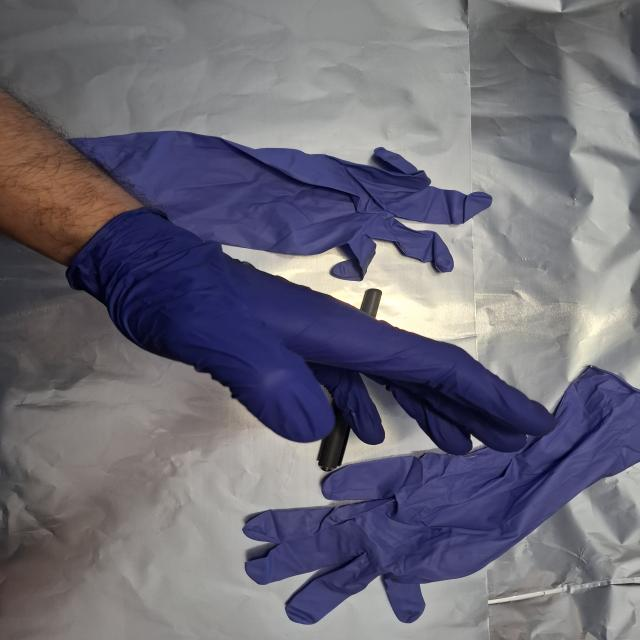glove_on: (78, 206, 560, 458)
